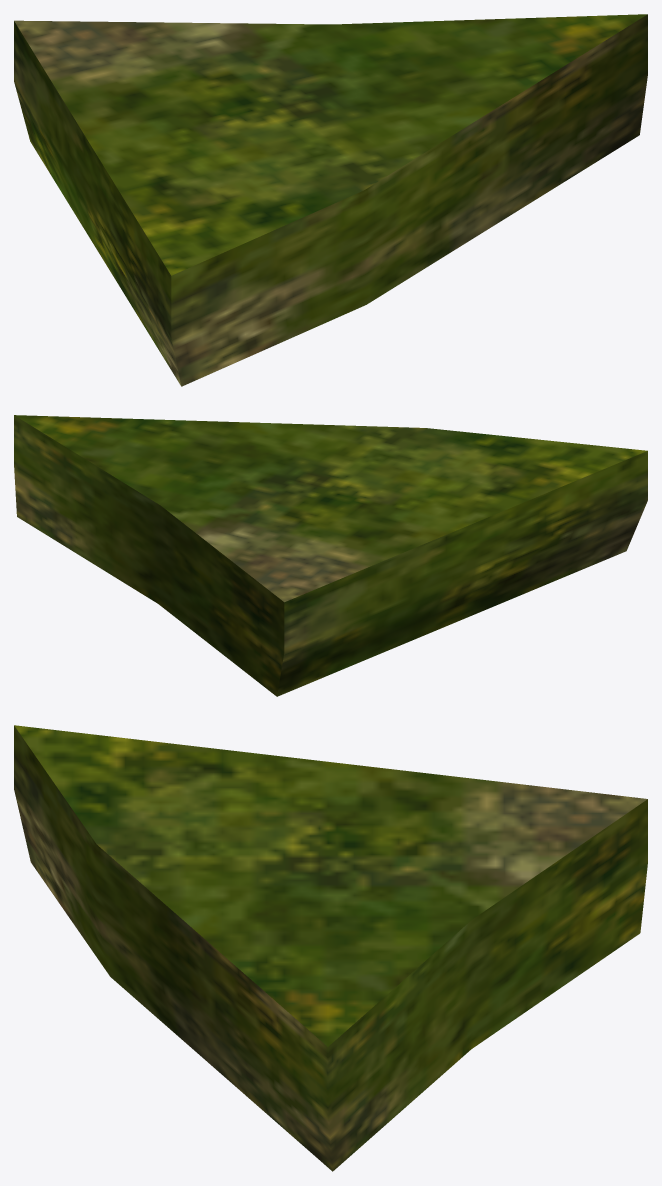
The model's file is ANIMATEDINSTANCES_ROOF_FALL_05__AI.fbx.
The picture shows the model from 3 angles, top to bottom: view 1: azimuth 30°, elevation 25°; view 2: azimuth 150°, elevation 25°; view 3: azimuth 270°, elevation 25°; orthographic projection. The views are drawn at different scales.
Parts seen in each view (by area): view 1: ANIMATEDINSTANCES_ROOF_FALL_05__AI; view 2: ANIMATEDINSTANCES_ROOF_FALL_05__AI; view 3: ANIMATEDINSTANCES_ROOF_FALL_05__AI.
Part boxes in pixels (box(x1,y1,x2,y2)): ANIMATEDINSTANCES_ROOF_FALL_05__AI: box(14, 14, 647, 386); ANIMATEDINSTANCES_ROOF_FALL_05__AI: box(14, 415, 647, 696); ANIMATEDINSTANCES_ROOF_FALL_05__AI: box(14, 725, 647, 1171).
Size of the model in its own units: 13502 by 2500 by 11242.
1 material, 1 textured.
